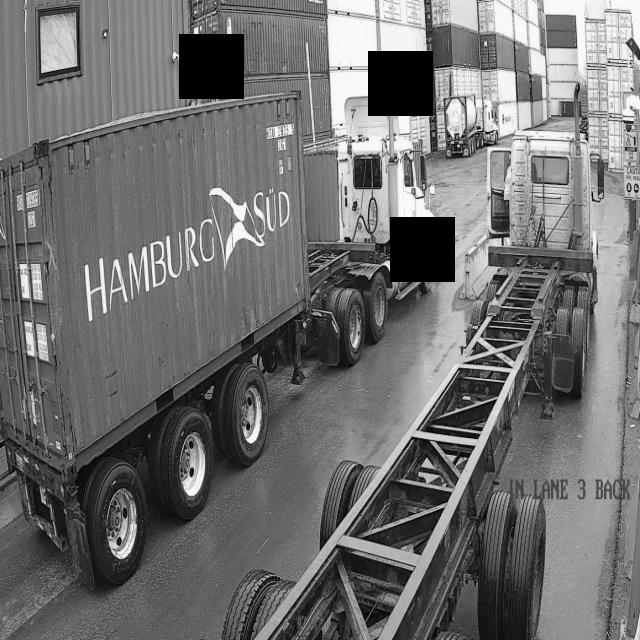container_company_logo: (77, 170, 293, 334)
truck_with_container: (0, 69, 438, 588)
truck_without_container: (255, 114, 605, 640)
